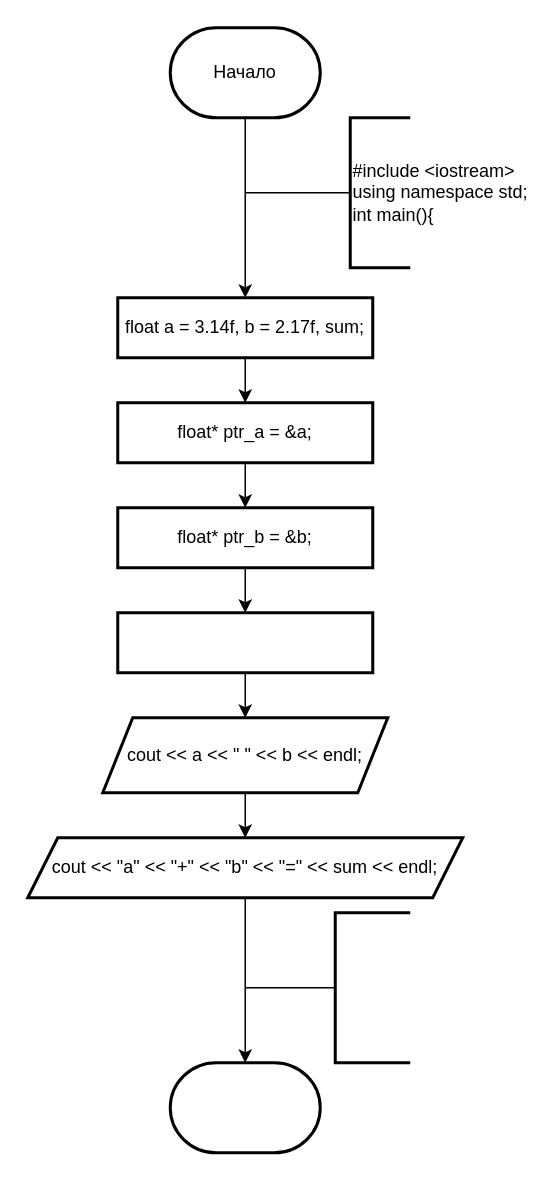
The diagram is 554 pixels wide and 1179 high, and some of its shapes have lost their labels. Here are the shapes that lost their labels. From the top down, the centre of each, then its label:
pixel 245 642: sum = *ptr_a + *ptr_b;
pixel 372 987: return 0; }
pixel 244 1107: Конец
